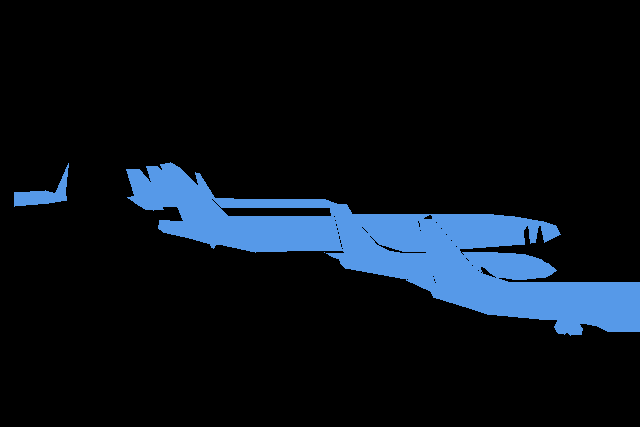Airplane: (158, 162, 560, 252), (406, 218, 640, 336), (324, 206, 557, 284), (126, 169, 341, 210), (146, 166, 214, 208), (14, 163, 68, 206)
